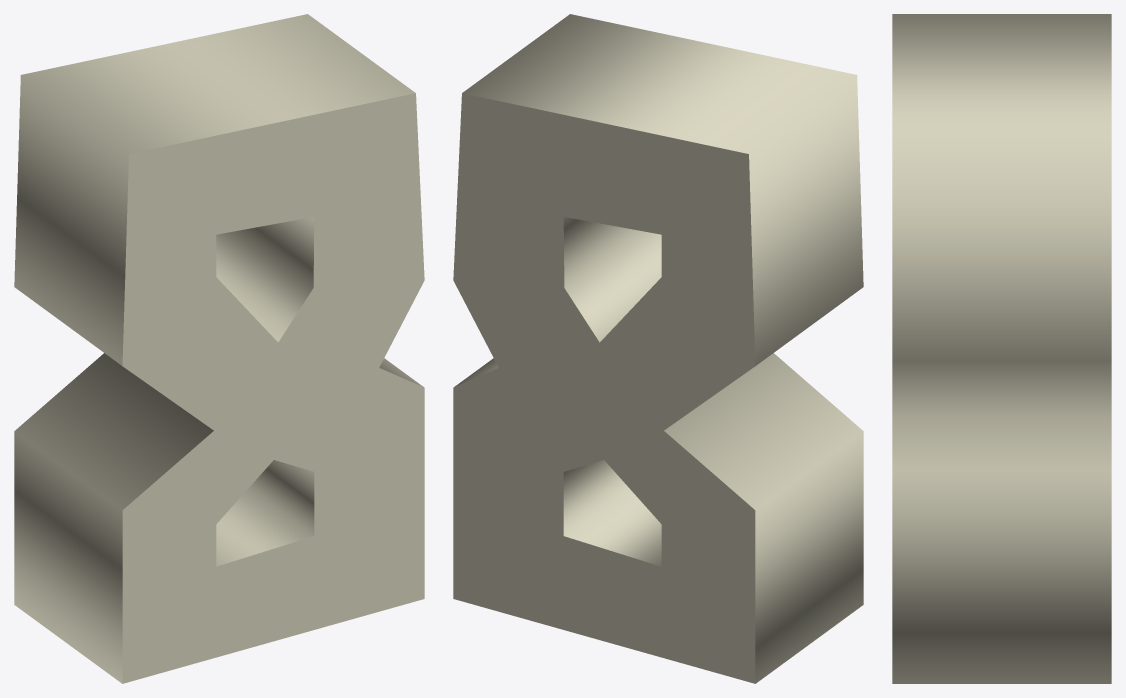
Rendered from Angka8.fbx.
3 views of the same model, side by side, from view 1: azimuth 30°, elevation 25°; view 2: azimuth 150°, elevation 25°; view 3: azimuth 270°, elevation 25° (orthographic).
Parts seen in each view (by area): view 1: M-angka1.002; view 2: M-angka1.002; view 3: M-angka1.002.
Boxes of the visible parts, <box> form: M-angka1.002: <box>14,14,424,683</box>; M-angka1.002: <box>453,14,863,683</box>; M-angka1.002: <box>892,14,1111,683</box>.
Bounding box in the file's own units: 48.38 × 80.83 × 30.
